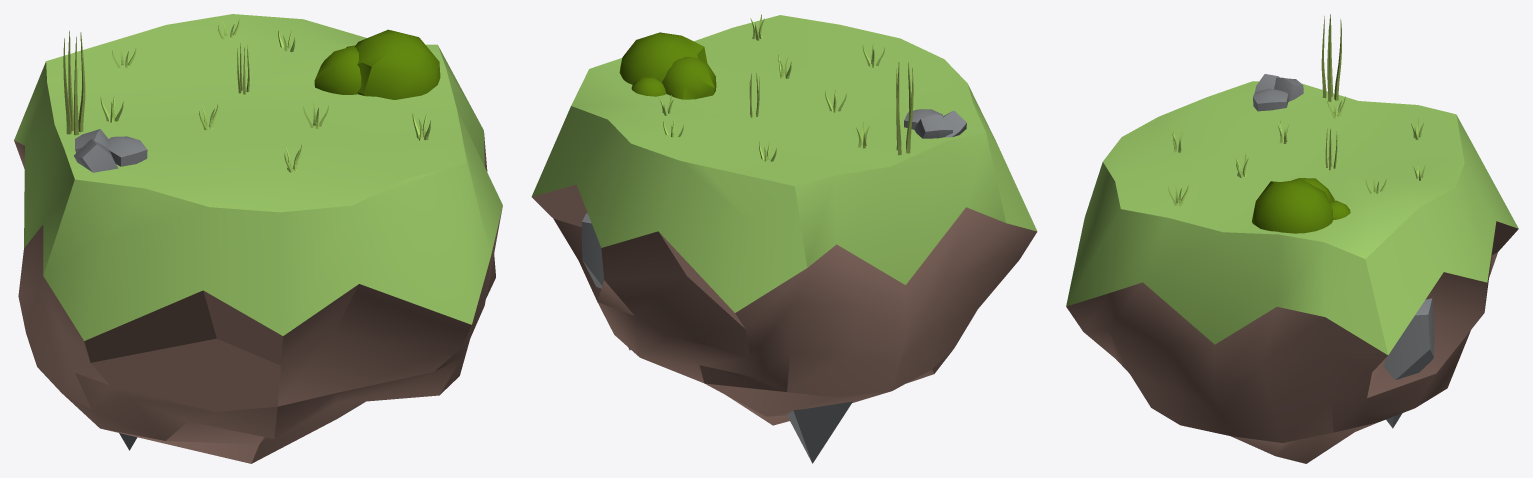
Rendered from small_2_spring.fbx.
3 views of the same model, side by side, from view 1: azimuth 30°, elevation 25°; view 2: azimuth 150°, elevation 25°; view 3: azimuth 270°, elevation 25° (orthographic). The views are drawn at different scales.
Visible parts, largest first — view 1: Island_Spring_2.001; view 2: Island_Spring_2.001; view 3: Island_Spring_2.001.
Boxes of the visible parts, x1,y1,x2,y2 form: Island_Spring_2.001: [14, 14, 502, 463]; Island_Spring_2.001: [531, 14, 1037, 463]; Island_Spring_2.001: [1066, 14, 1518, 463].
Bounding box in the file's own units: 2.41 × 2.3 × 2.47.
